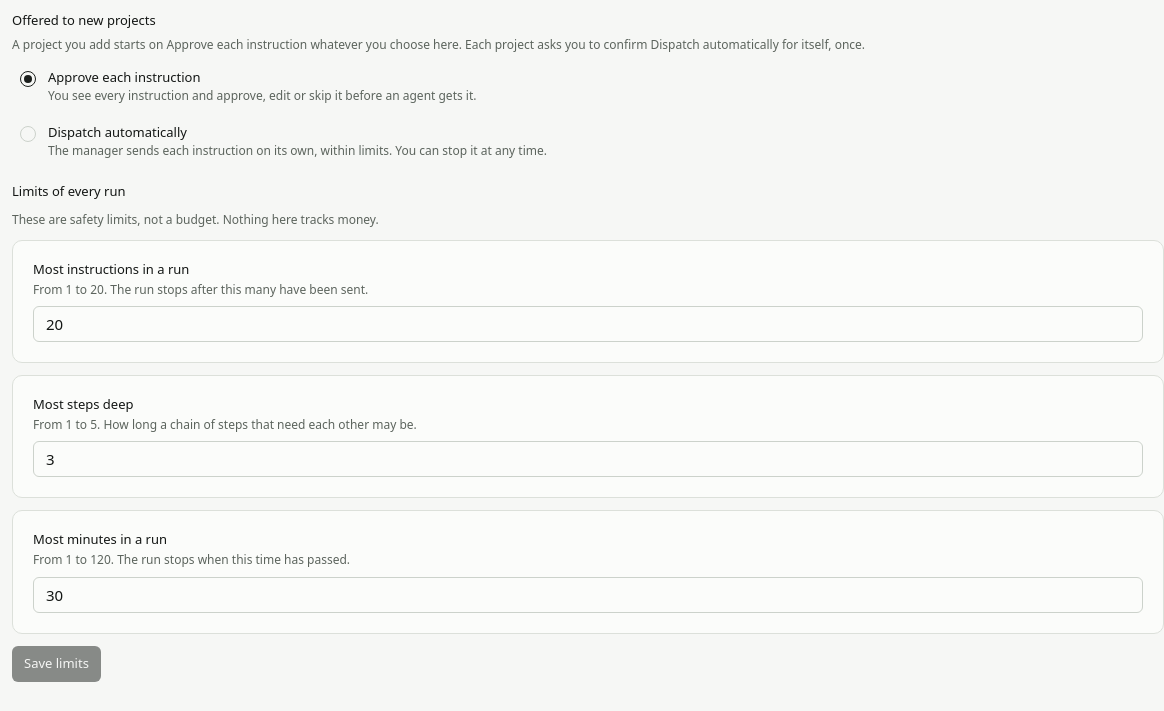
Test case: the default mode and the limits for new projects › shows the server's refusal of a limit in its own words
This screenshot has width=1164, height=711.
Step 1. Replace the text in the number field with test id "orchestration-limit-maxMinutes" with "500" → (588, 594), box [33,576,1143,612]
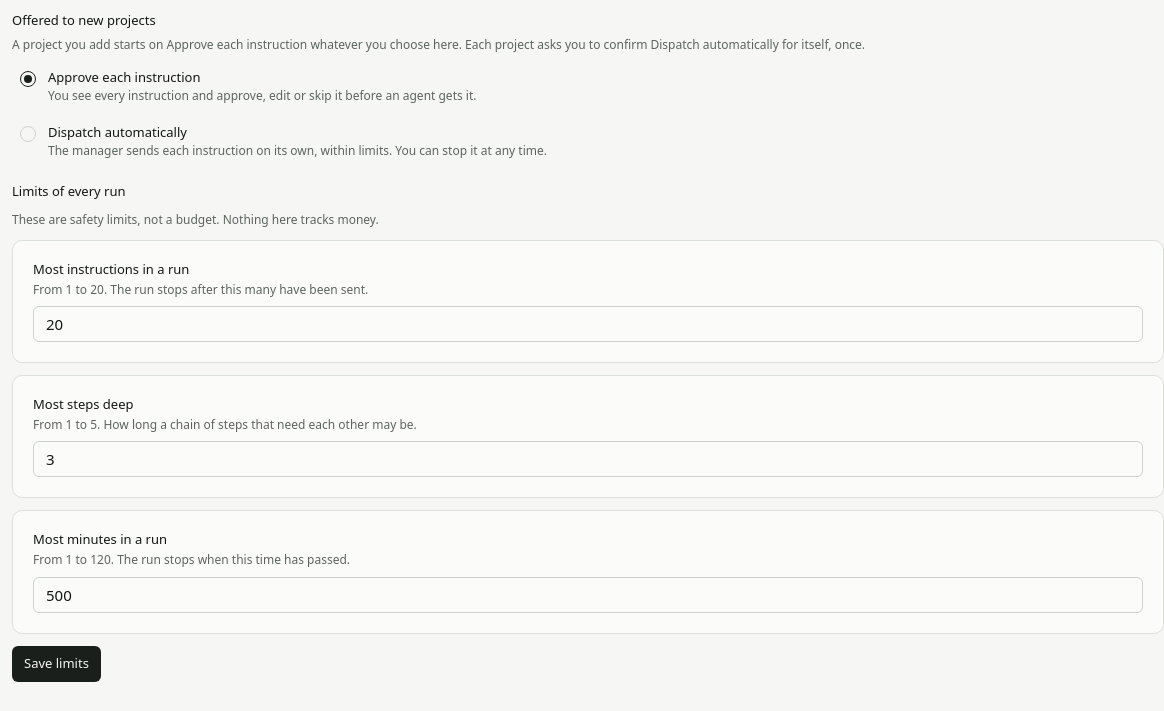
Step 2. Click the button with test id "orchestration-limits-save" → (56, 664), box [12,646,101,682]
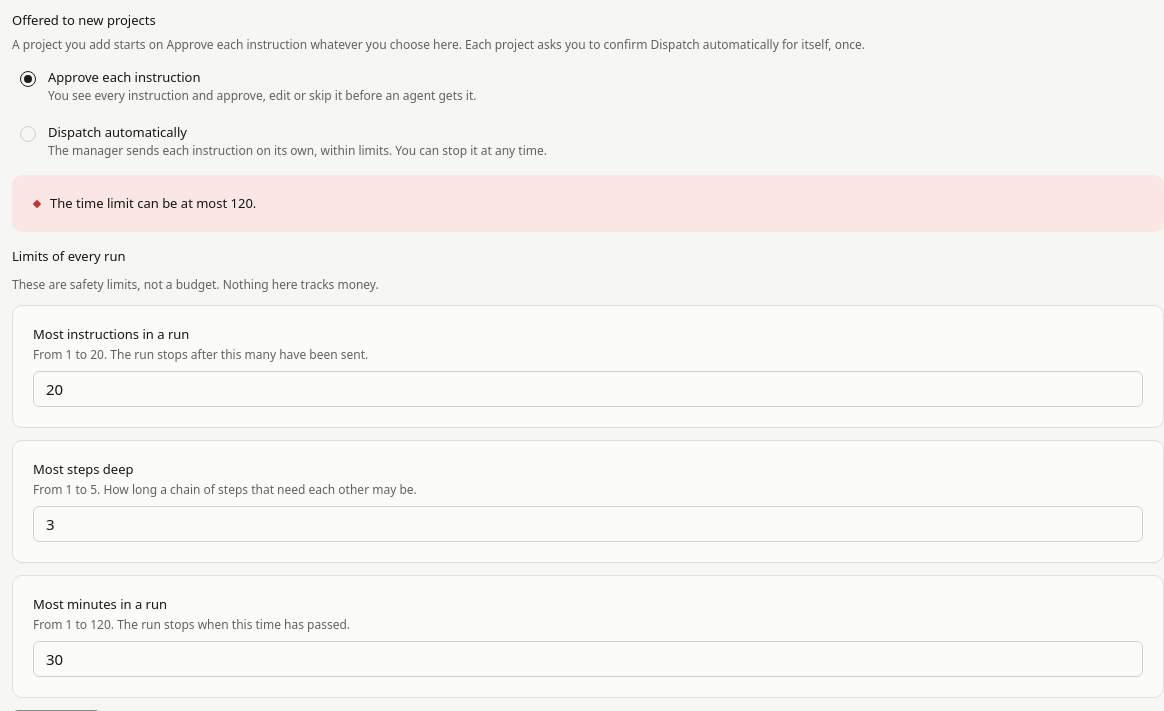
Expected: the message with test id "orchestration-default-mode-error" reads "The time limit can be at most 120.", [50,194,256,212]
